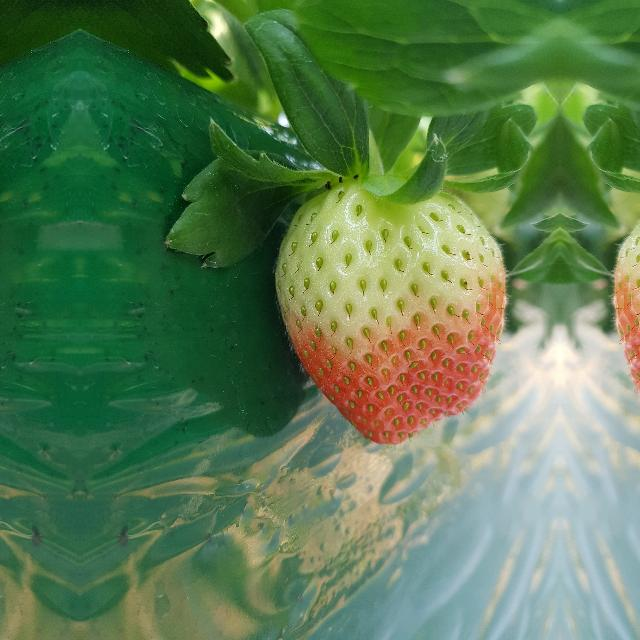Health_50: (274, 178, 508, 448)
